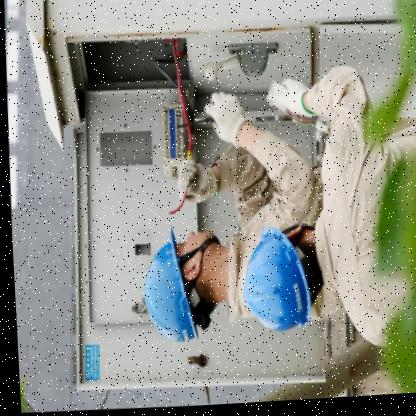helmet: (133, 222, 212, 353), (233, 224, 321, 341)
